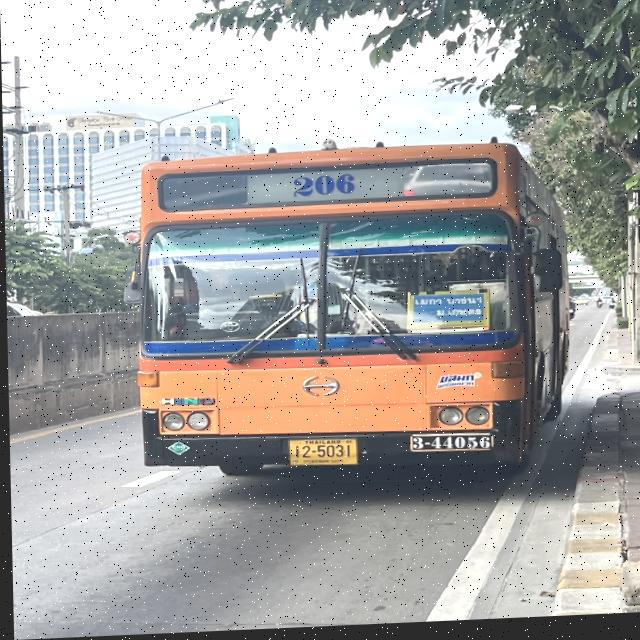BMTA-bus: (133, 139, 576, 495)
Bus Line Number: (278, 173, 366, 204)
Bus Side Number: (407, 431, 497, 459)
Destination Sign: (413, 298, 482, 327)
